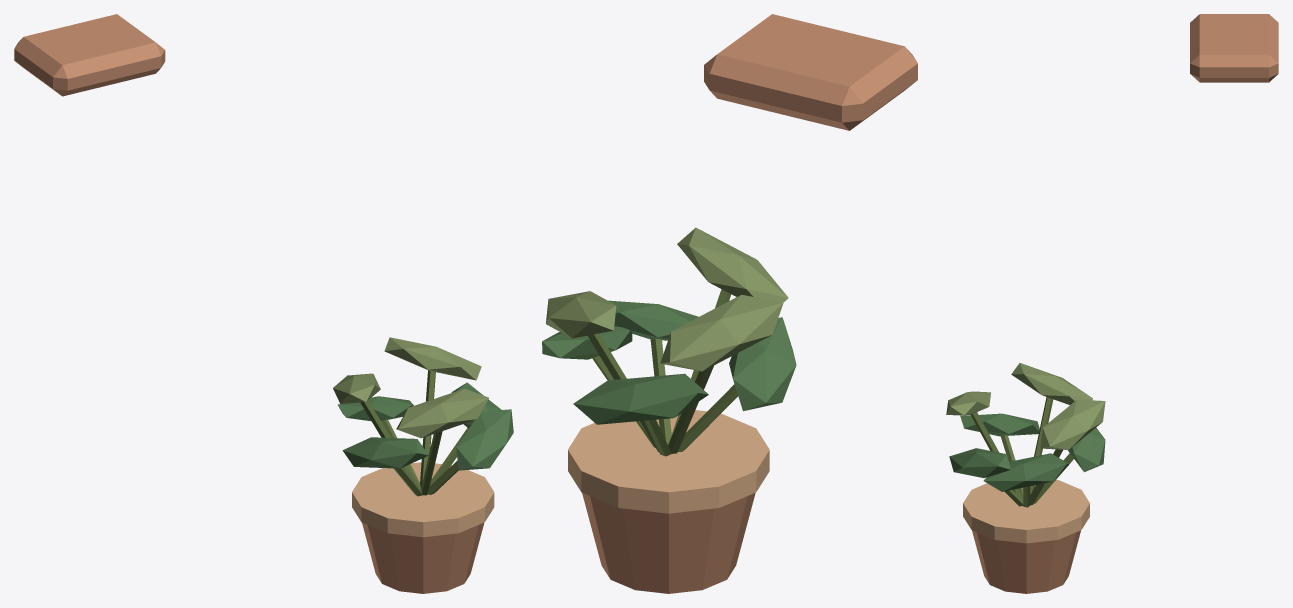
File: hearth-enrichment.glb
The picture shows the model from 3 angles, left to right: view 1: azimuth 30°, elevation 25°; view 2: azimuth 150°, elevation 25°; view 3: azimuth 270°, elevation 25°; orthographic projection. The views are drawn at different scales.
Visible parts, largest first — view 1: Ember_Hearth_Enrichment; view 2: Ember_Hearth_Enrichment; view 3: Ember_Hearth_Enrichment.
Part boxes in pixels (x1,y1,x2,y2): Ember_Hearth_Enrichment: (14, 14, 513, 593); Ember_Hearth_Enrichment: (542, 14, 917, 593); Ember_Hearth_Enrichment: (946, 14, 1278, 593).
Size of the model in its own units: 0.9396 by 1.28 by 0.8635.
